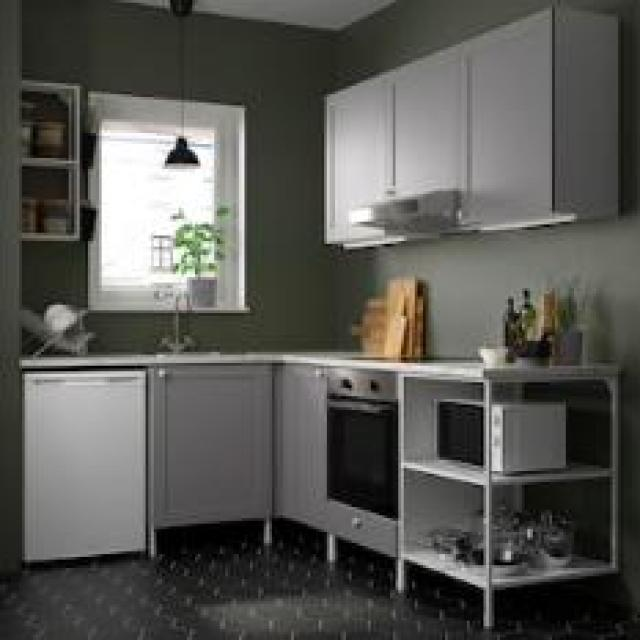dishwasher: (19, 366, 143, 557)
